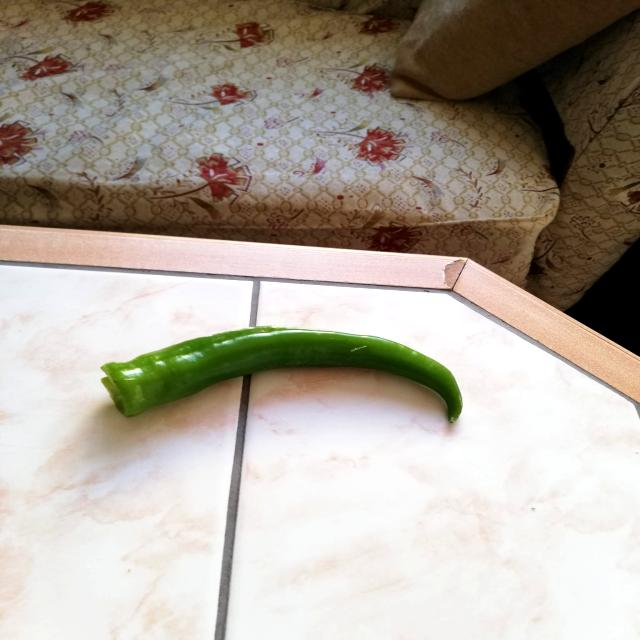green pepper: (96, 321, 471, 427)
